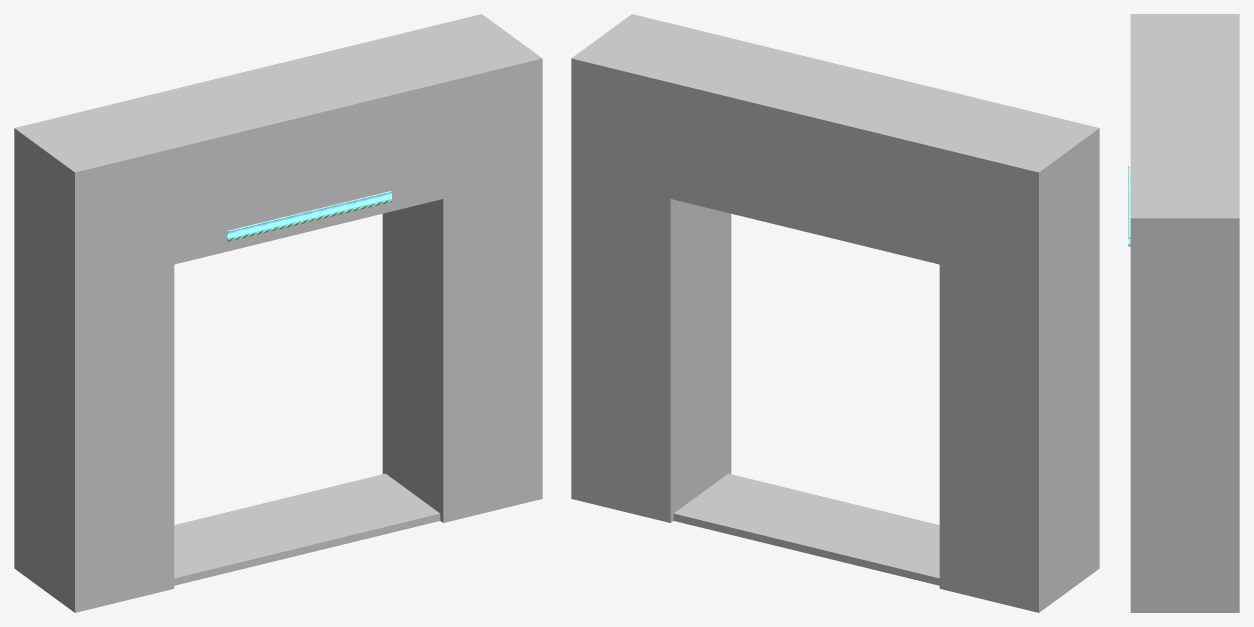
The model's file is SF_Bulkhead_Arch_LOD3.fbx.
3 renders of one model, left to right at view 1: azimuth 30°, elevation 25°; view 2: azimuth 150°, elevation 25°; view 3: azimuth 270°, elevation 25°, orthographic. The views are drawn at different scales.
Parts seen in each view (by area): view 1: SF_Bulkhead_Arch_LOD3; view 2: SF_Bulkhead_Arch_LOD3; view 3: SF_Bulkhead_Arch_LOD3.
Part boxes in pixels (x1,y1,x2,y2): SF_Bulkhead_Arch_LOD3: (14,14,542,612); SF_Bulkhead_Arch_LOD3: (571,14,1099,612); SF_Bulkhead_Arch_LOD3: (1128,14,1239,612).
Size of the model in its own units: 4 by 3.6 by 0.92.
